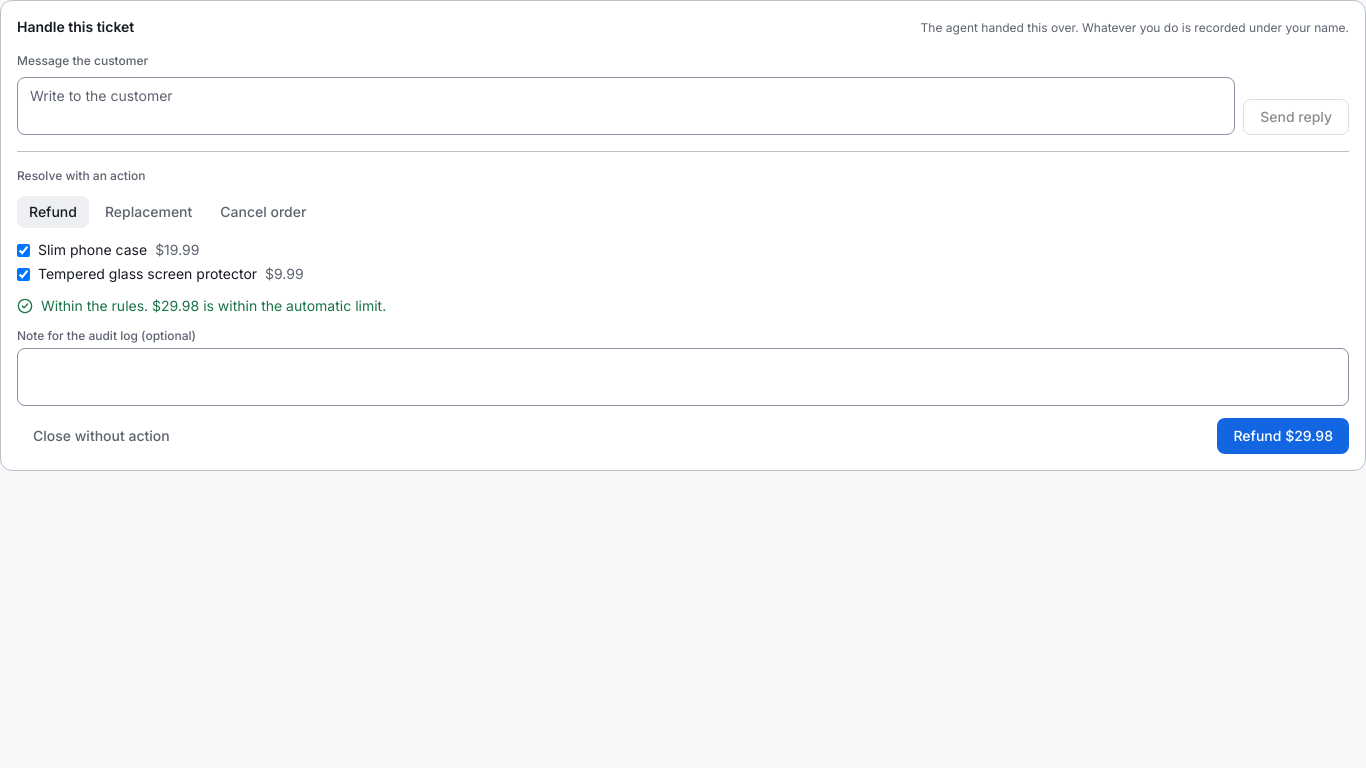
it: StaffActions › closes without an action as declined, with the note
Check: the button "Refund $29.98" is shown, box [1218, 418, 1349, 454]
Type "Not a defect" into the text box labelled "Note for the audit log (optional)".
click(683, 377); type("Not a defect")  # box [17, 348, 1349, 406]
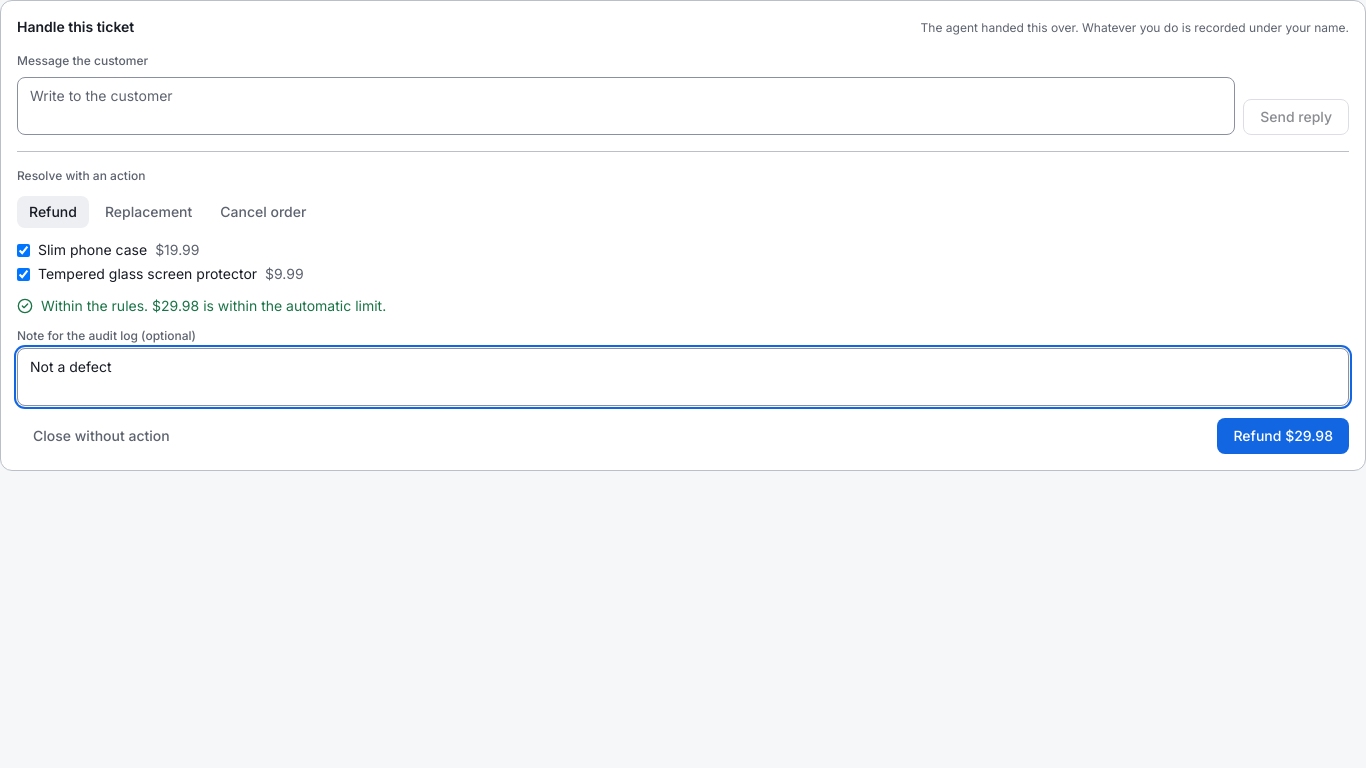
Click the button "Close without action".
click(101, 436)  # box [17, 418, 186, 454]
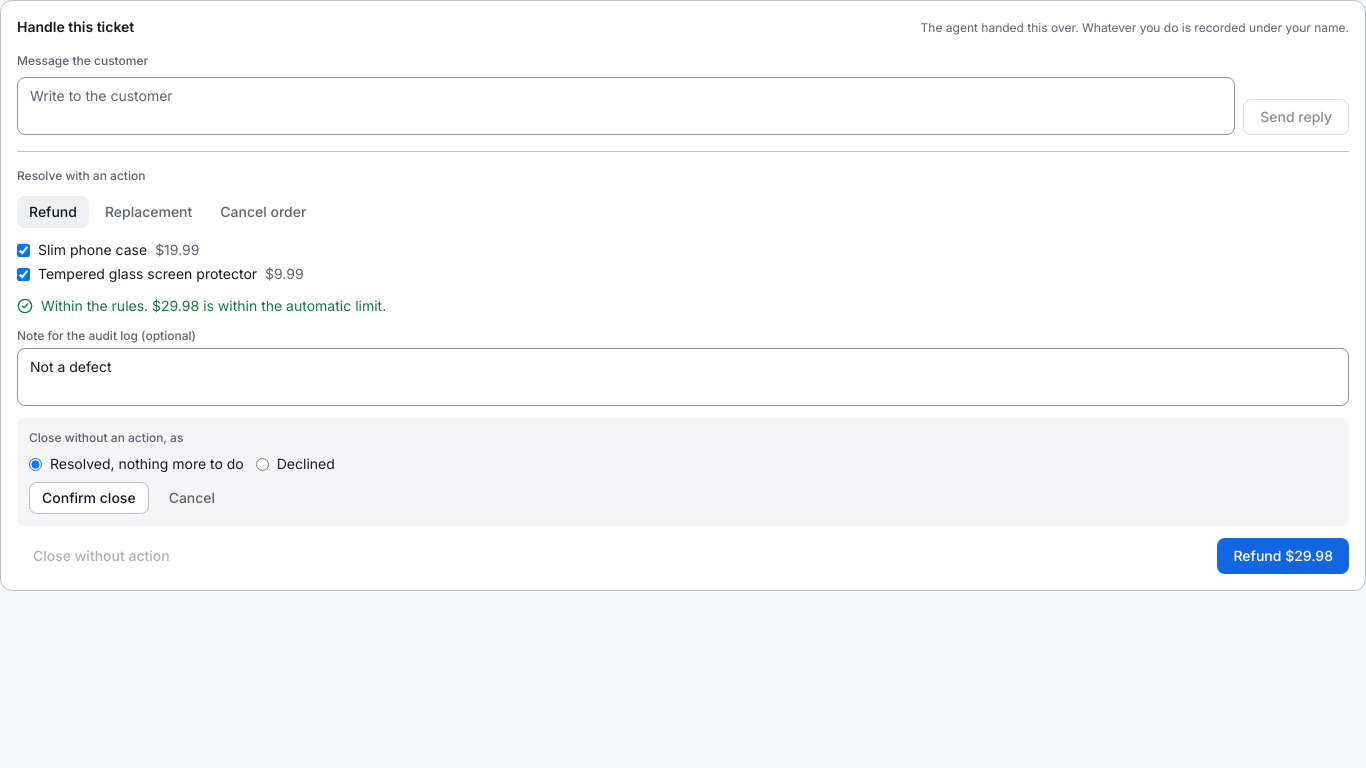
Click the radio button labelled "Declined".
click(262, 464)  # box [256, 458, 269, 470]
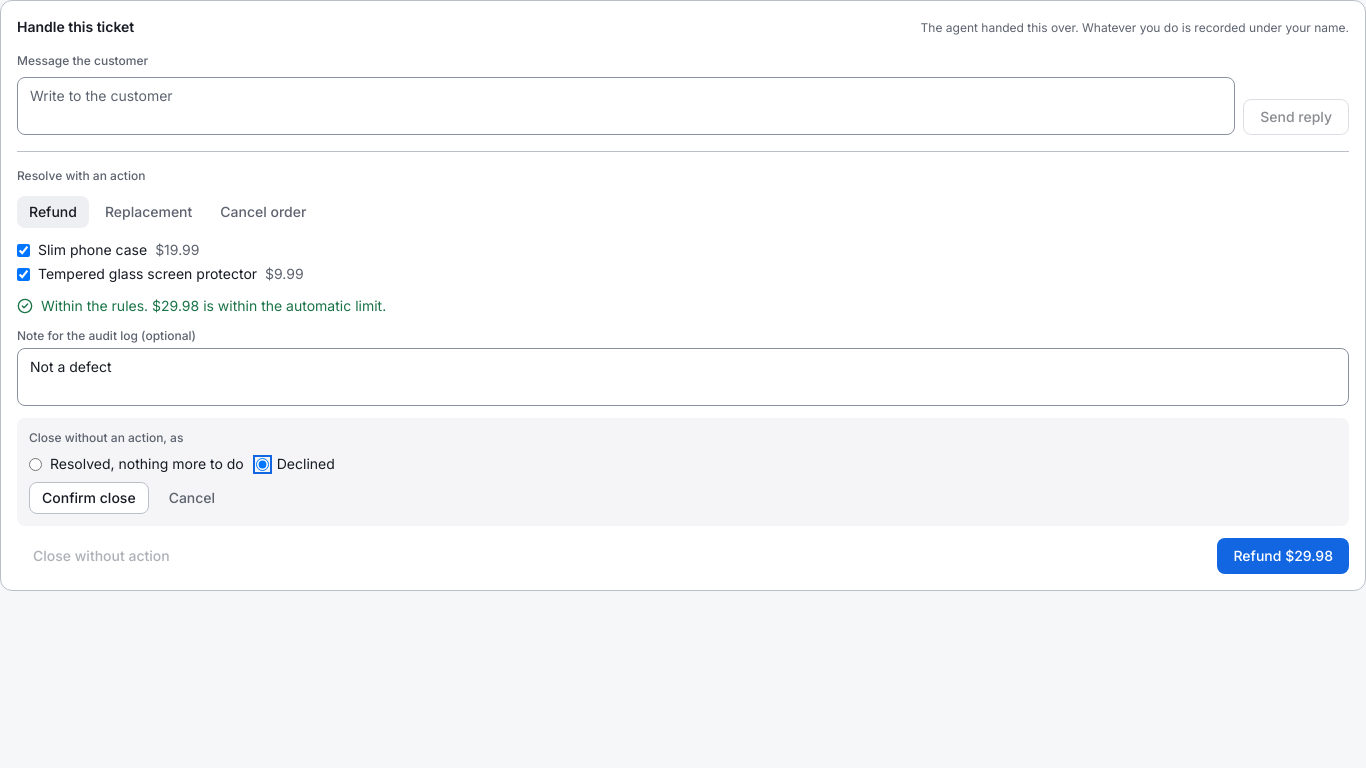
Click the button "Confirm close".
click(89, 498)  # box [29, 482, 149, 514]
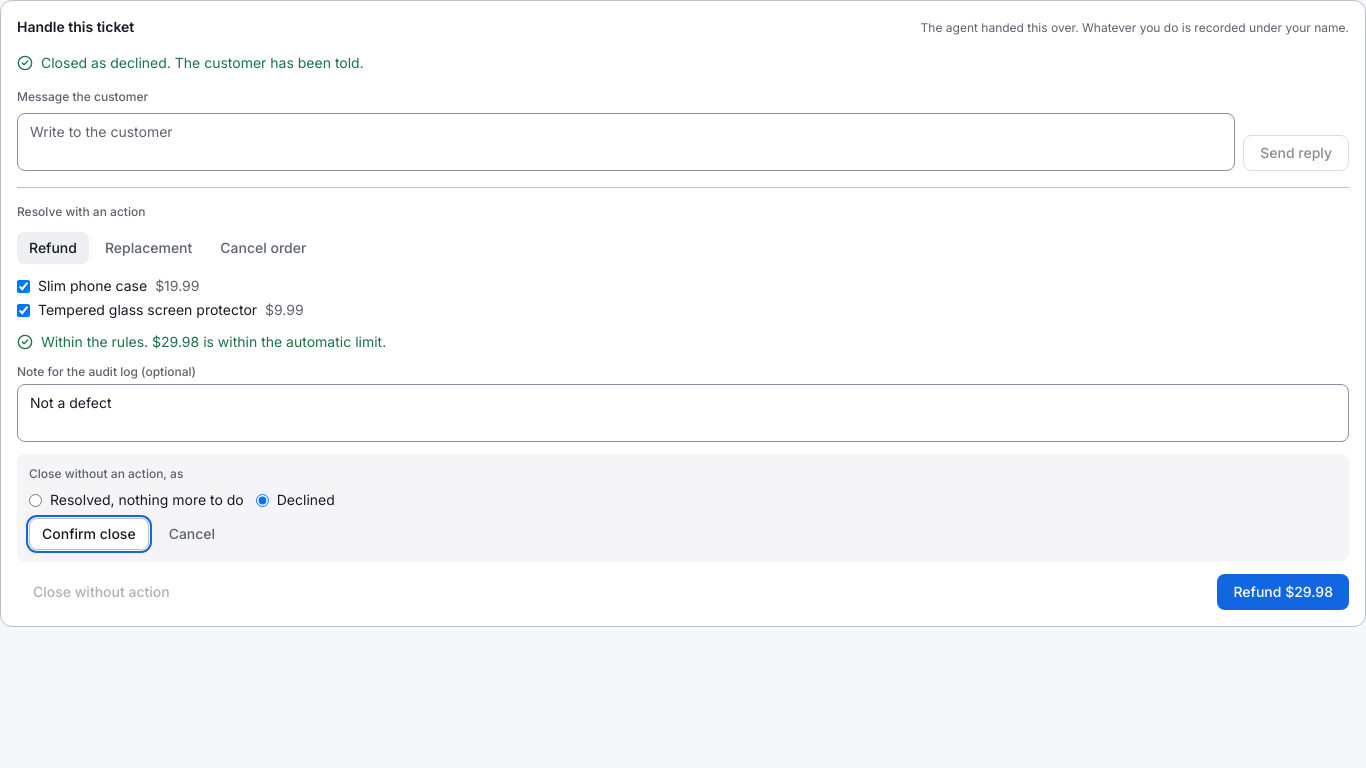
Check: the message shows "Closed as declined.", box [41, 54, 364, 71]
